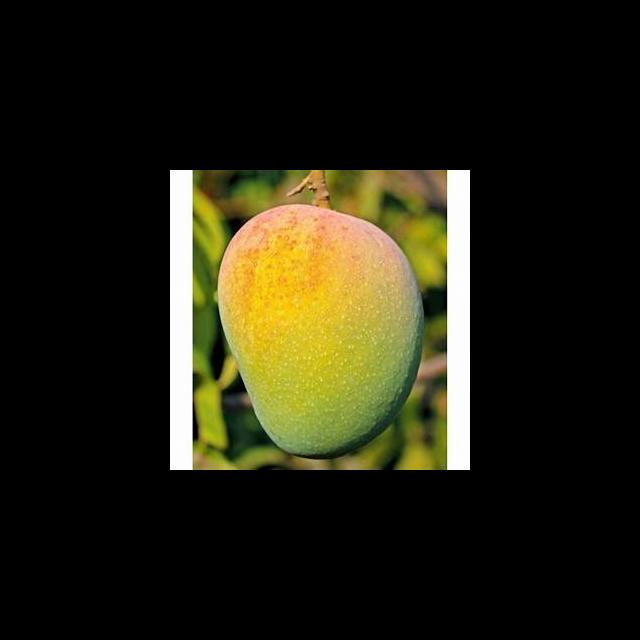mango: (219, 205, 422, 457)
